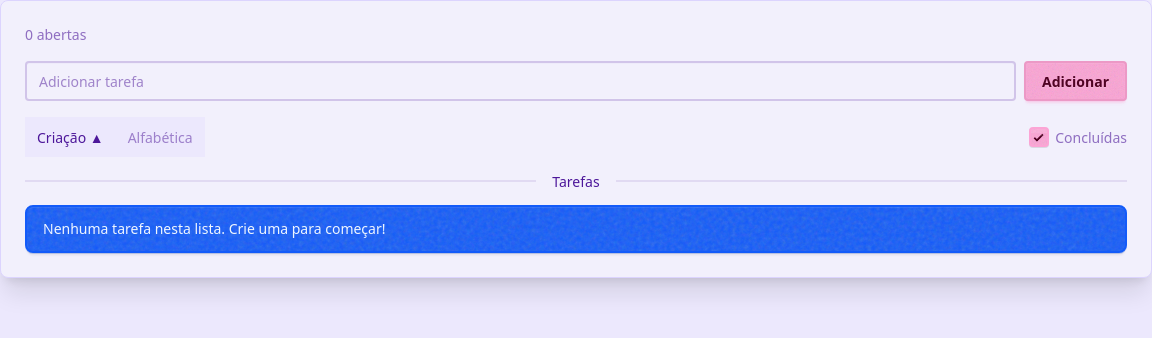
Test case: TaskList com Context › cria nova tarefa e exibe na lista
Step 1. Type "Nova tarefa" into the field with test id "input-new-task" → (521, 81), box [25, 61, 1016, 101]
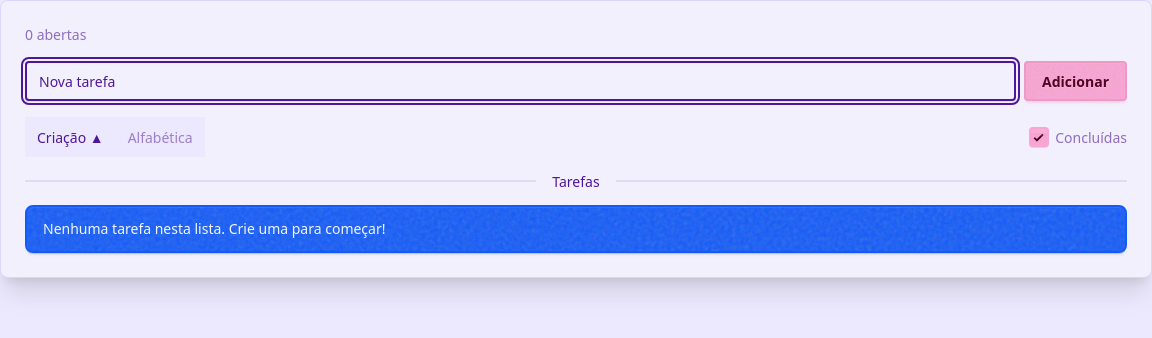
Step 2. Click the button with test id "btn-add-task" → click(1076, 81), box [1024, 61, 1127, 101]
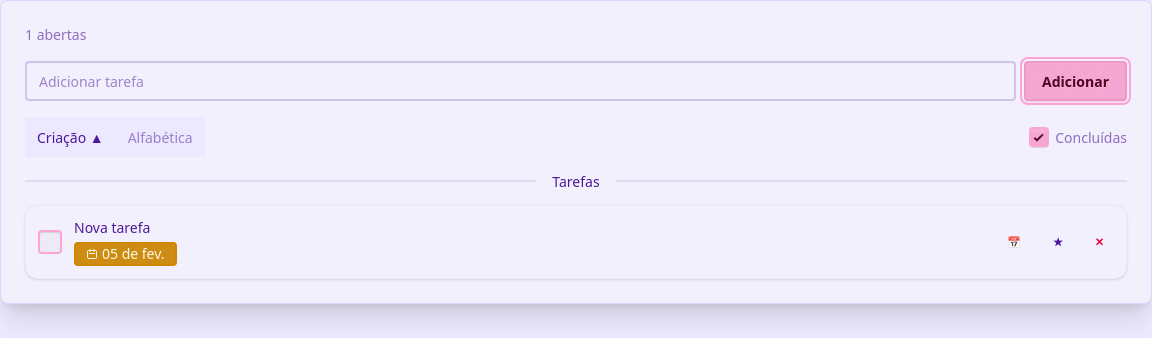
Expected: the text "Nova tarefa" is shown, [74, 218, 150, 237]
